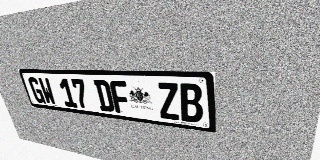1: (57, 78, 78, 108)
7: (70, 79, 91, 109)
B: (178, 83, 203, 123)
D: (93, 80, 115, 112)
F: (109, 80, 132, 114)
G: (27, 77, 46, 104)
W: (37, 77, 57, 105)
Z: (156, 82, 181, 121)
